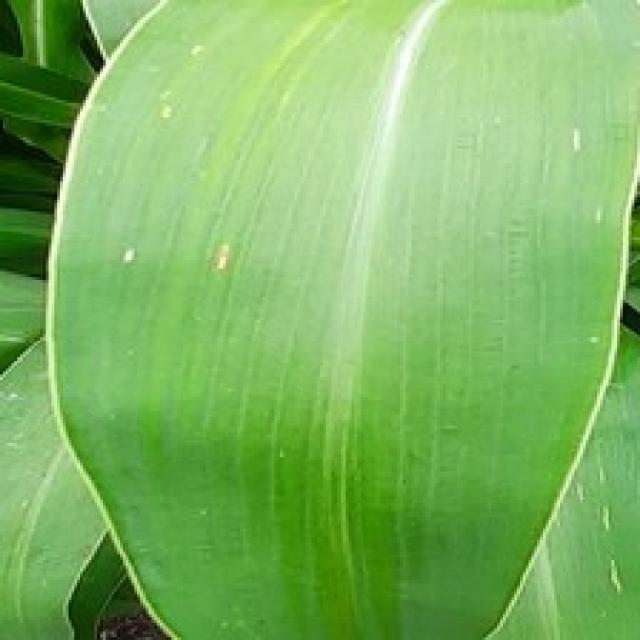Corn: (40, 0, 637, 637), (0, 332, 129, 637)
